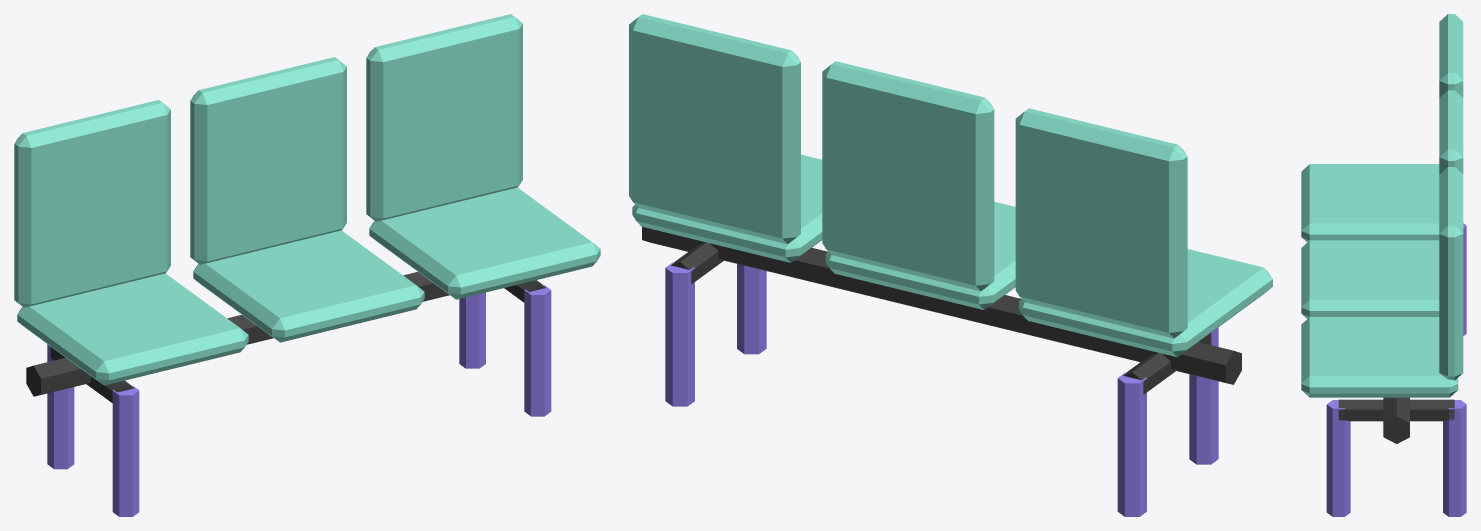
3 renders of one model, left to right at view 1: azimuth 30°, elevation 25°; view 2: azimuth 150°, elevation 25°; view 3: azimuth 270°, elevation 25°, orthographic. The views are drawn at different scales.
Parts seen in each view (by area): view 1: Back.002, Back, Back.001, Seat.002, Seat, Seat.001, Leg.002, Leg, Cross beam, Leg.001, Leg.003; view 2: Back.001, Back, Back.002, Cross beam, Seat, Seat.001, Seat.002, Leg.003, Leg.001, Leg, Leg.002, Leg cross member (+1 smaller); view 3: Seat.002, Seat.001, Seat, Back.002, Leg.002, Leg.003, Leg cross member.001, Back.001, Back, Cross beam, Leg.001.
Boxes of the visible parts, x1,y1,x2,y2 form: Back.002: (366,14,522,221); Back: (14,100,170,307); Back.001: (190,57,346,264); Seat.002: (369,187,600,299); Seat: (17,273,248,385); Seat.001: (193,230,424,342); Leg.002: (524,285,551,416); Leg: (112,385,139,516); Cross beam: (26,272,449,396); Leg.001: (47,344,74,469); Leg.003: (459,292,485,368); Back.001: (822,61,994,291); Back: (1015,108,1187,338); Back.002: (629,14,800,244); Cross beam: (642,226,1241,384); Seat: (1018,249,1272,357); Seat.001: (825,202,1015,309); Seat.002: (632,154,822,262); Leg.003: (665,262,694,406); Leg.001: (1117,372,1146,516); Leg: (1189,327,1218,464); Leg.002: (737,264,766,354); Leg cross member: (1123,333,1211,394); Seat.002: (1301,317,1458,397); Seat.001: (1301,240,1439,318); Seat: (1301,164,1439,242); Back.002: (1439,167,1463,380); Leg.002: (1326,400,1350,516); Leg.003: (1443,400,1466,516); Leg cross member.001: (1338,399,1454,421); Back.001: (1439,90,1463,174); Back: (1439,14,1463,97); Cross beam: (1383,397,1409,443); Leg.001: (1463,223,1466,335).
Size of the model in its own units: 1.6 by 0.98 by 0.485.
Materials: 1 (1 with a texture image).
